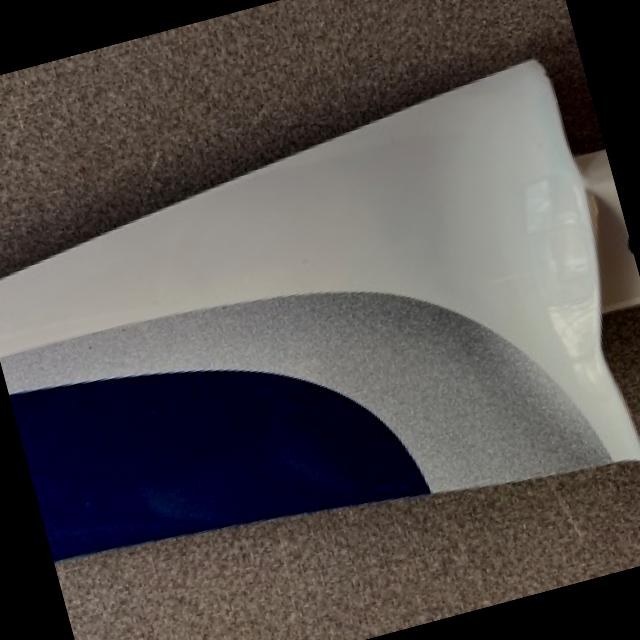healthy: (0, 57, 640, 489)
